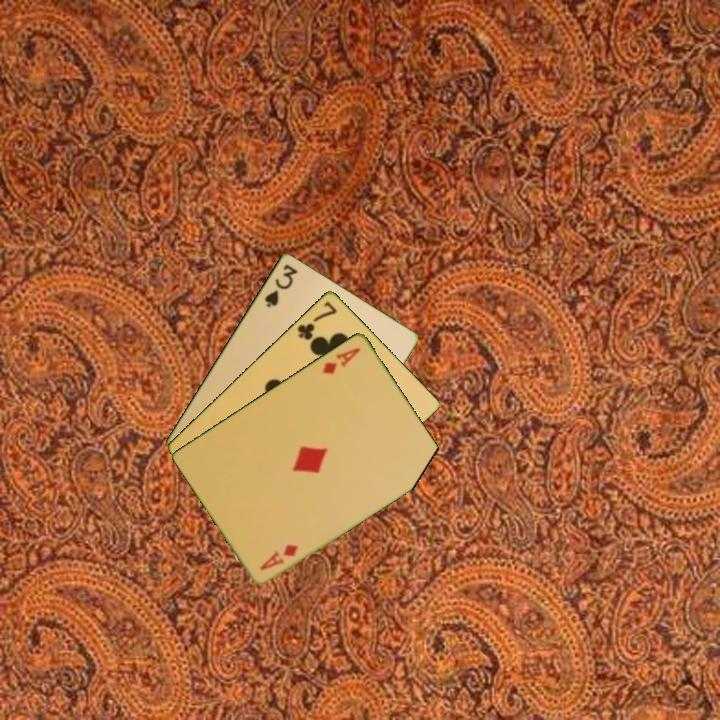3s: (261, 260, 301, 310)
7c: (294, 297, 340, 343)
Ad: (319, 343, 363, 377), (256, 540, 301, 573)
